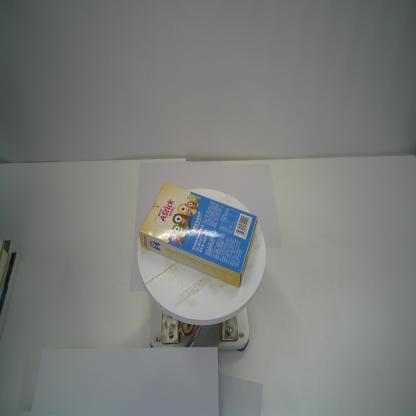Dessert: (138, 180, 259, 290)
